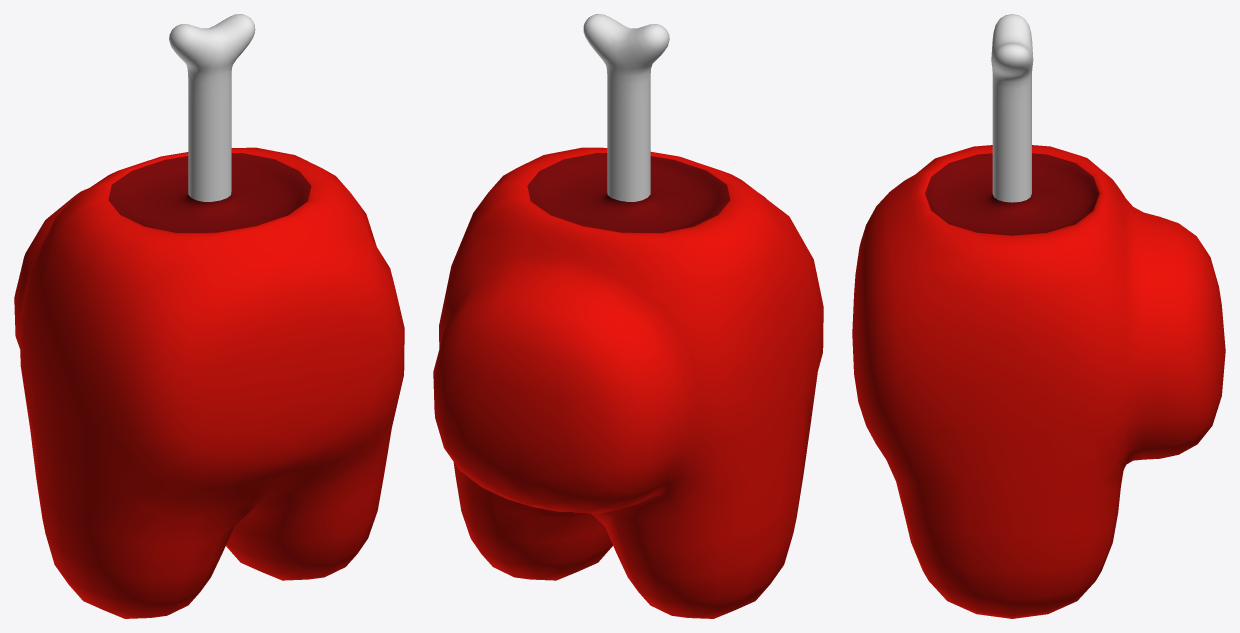
Rendered from deadsus.fbx.
3 renders of one model, left to right at view 1: azimuth 30°, elevation 25°; view 2: azimuth 150°, elevation 25°; view 3: azimuth 270°, elevation 25°, orthographic. The views are drawn at different scales.
Parts seen in each view (by area): view 1: AmoundDead; view 2: AmoundDead; view 3: AmoundDead.
Part boxes in pixels (left/top/right/bottom): AmoundDead: left=14, top=14, right=404, bottom=618; AmoundDead: left=433, top=14, right=823, bottom=618; AmoundDead: left=852, top=14, right=1225, bottom=618.
Bounding box in the file's own units: 1.95 × 3.46 × 2.14.
